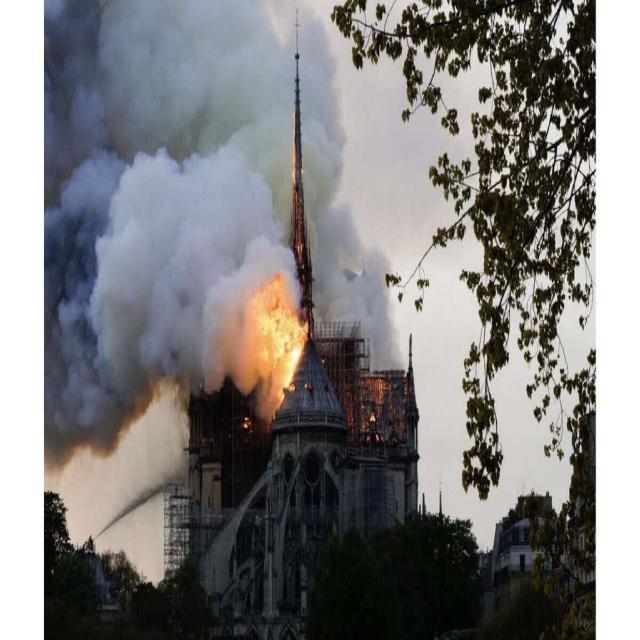Fire: (247, 272, 307, 400)
Smoke: (50, 0, 293, 402), (305, 2, 404, 371)
